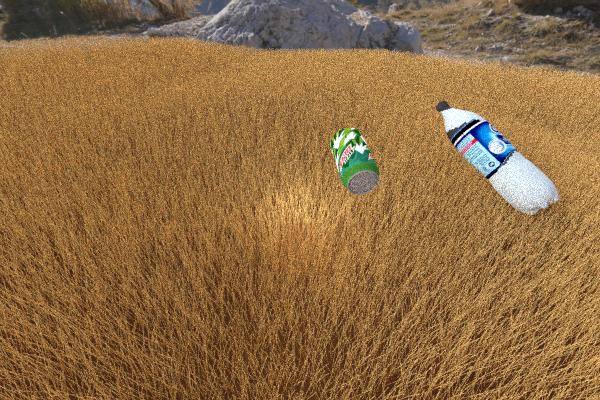bottle: (435, 100, 559, 215)
can: (330, 127, 379, 194), (200, 96, 254, 124)
